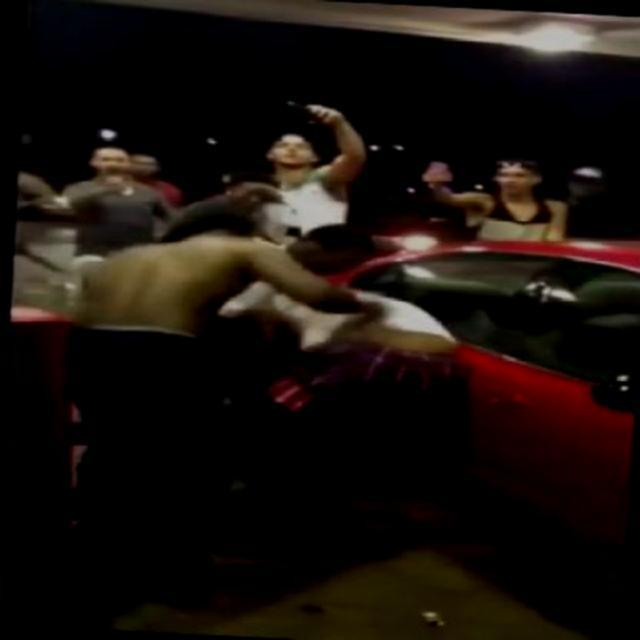fight: (91, 195, 472, 608)
